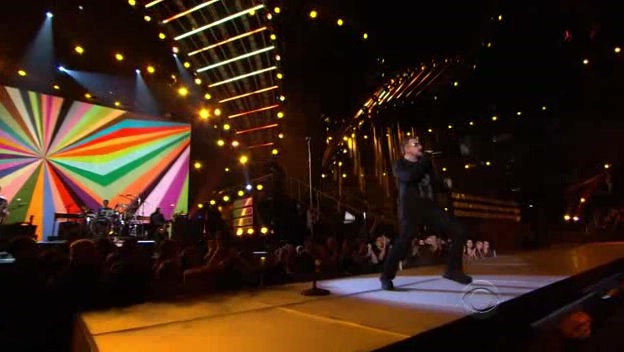person: (393, 140, 451, 240), (390, 140, 448, 240), (396, 140, 454, 240), (393, 137, 451, 237), (393, 143, 451, 243)
target_negative: (83, 14, 199, 276), (131, 168, 370, 262), (263, 253, 604, 294), (11, 89, 108, 142), (513, 146, 544, 308), (289, 266, 354, 279)
